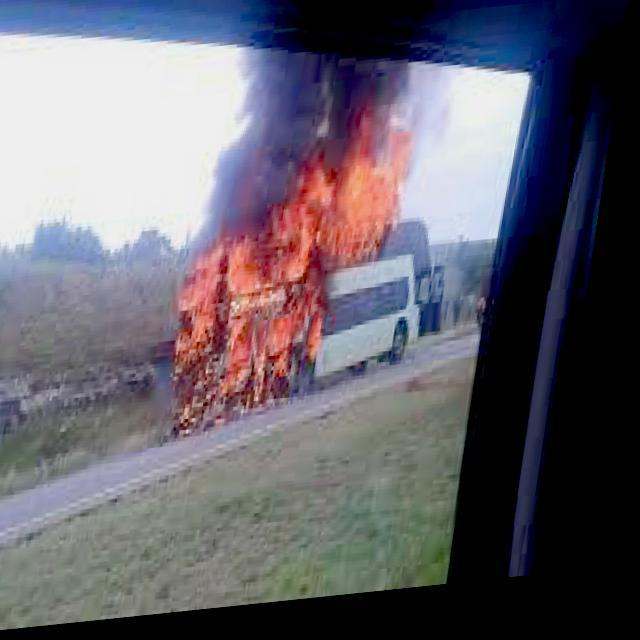Fire: (168, 106, 442, 430)
